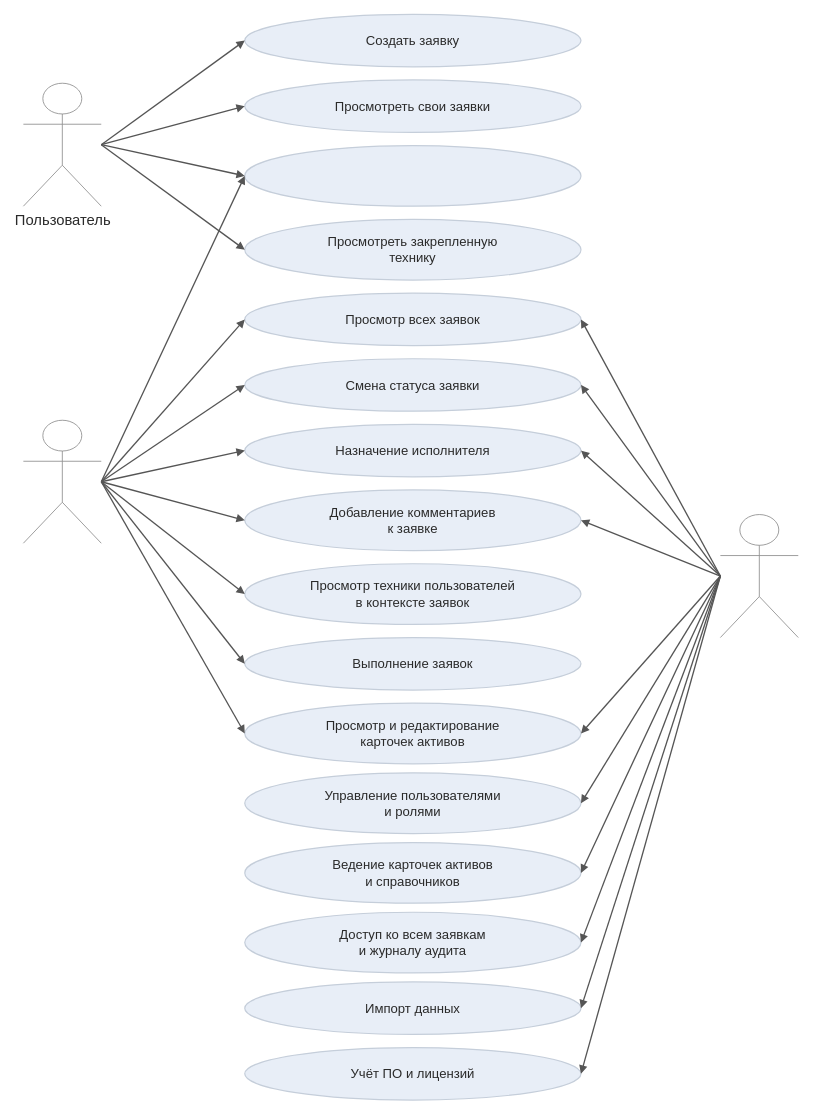
Some shapes in this 827 by 1115 pixel diagram are drawn without their labels. The box of each missing label's shape, as (x1, y1, x2, y2) in pixels:
Администратор: (720, 514, 798, 638)
Оператор: (23, 419, 101, 543)
Просмотреть заявки, где назначен исполнителем: (244, 145, 581, 206)
